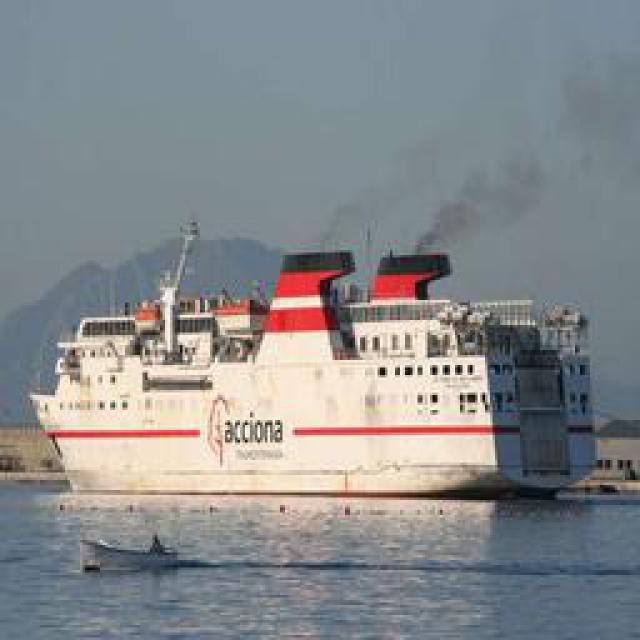Ship: (33, 231, 611, 499)
